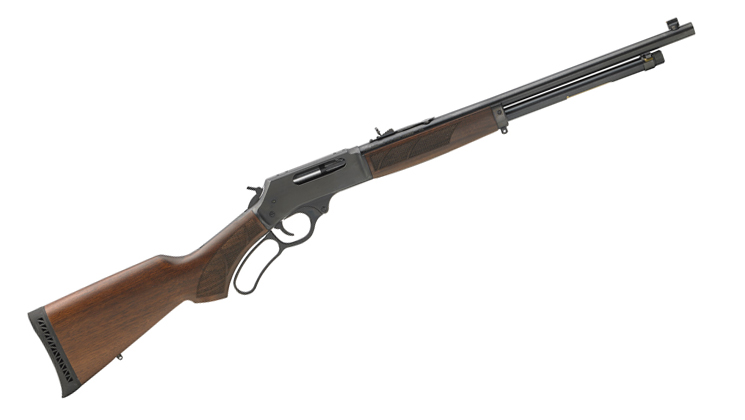Gun: (209, 38, 639, 291)
